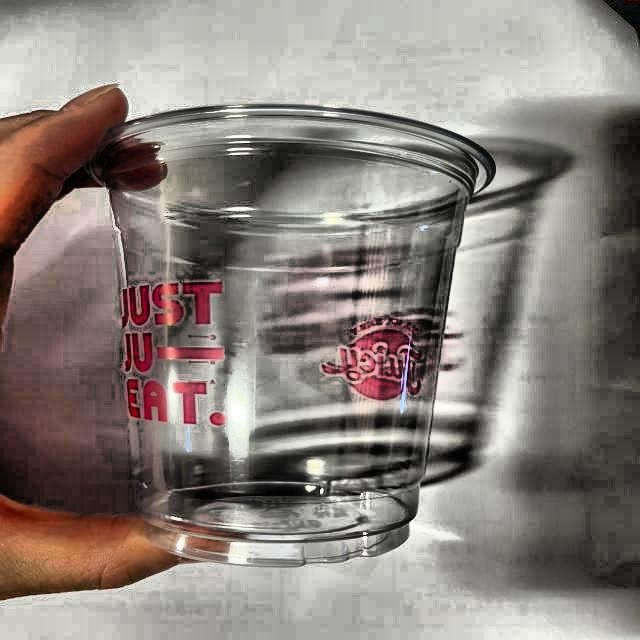plastic cup: (72, 100, 498, 569)
